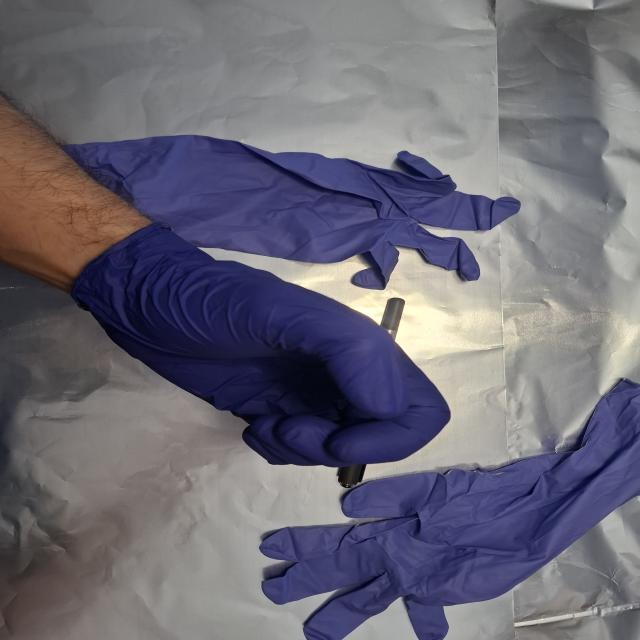glove_on: (75, 220, 455, 471)
